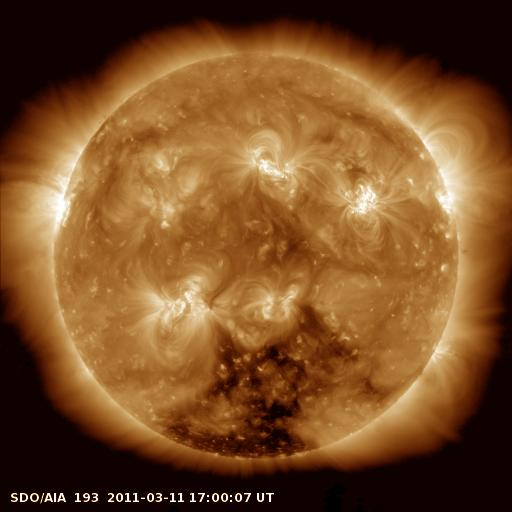coronal_hole: (153, 307, 356, 459)
